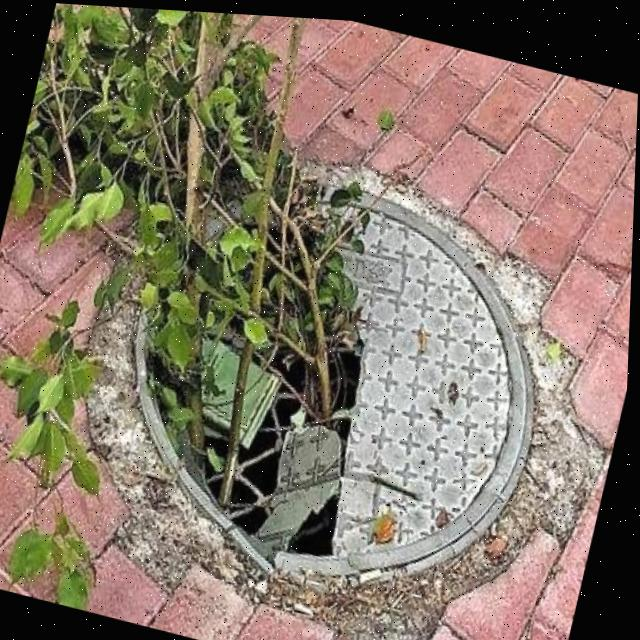manhole: (70, 111, 617, 640)
